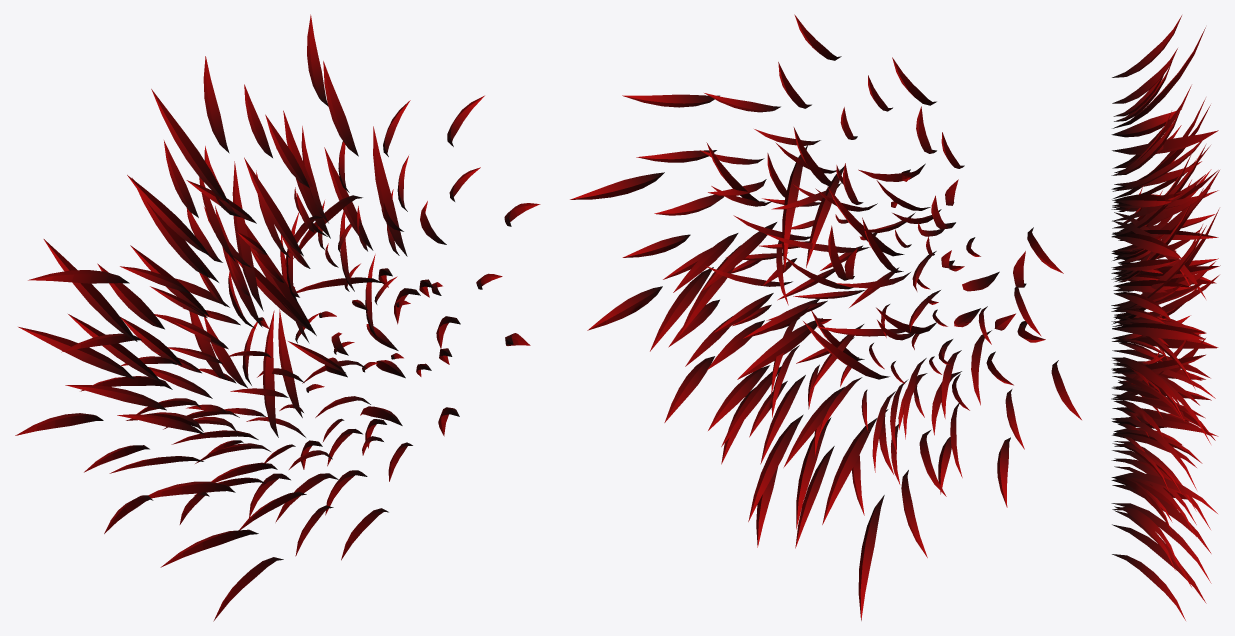
The model's file is P3_Hierba.fbx.
The picture shows the model from 3 angles, left to right: view 1: azimuth 30°, elevation 25°; view 2: azimuth 150°, elevation 25°; view 3: azimuth 270°, elevation 25°; orthographic projection. The views are drawn at different scales.
Visible parts, largest first — view 1: Grass; view 2: Grass; view 3: Grass.
Boxes of the visible parts, box(x1,y1,x2,y2) form: Grass: box(15, 14, 540, 621); Grass: box(570, 14, 1081, 620); Grass: box(1111, 15, 1220, 620).
Bounding box in the file's own units: 232 × 251 × 41.67.
